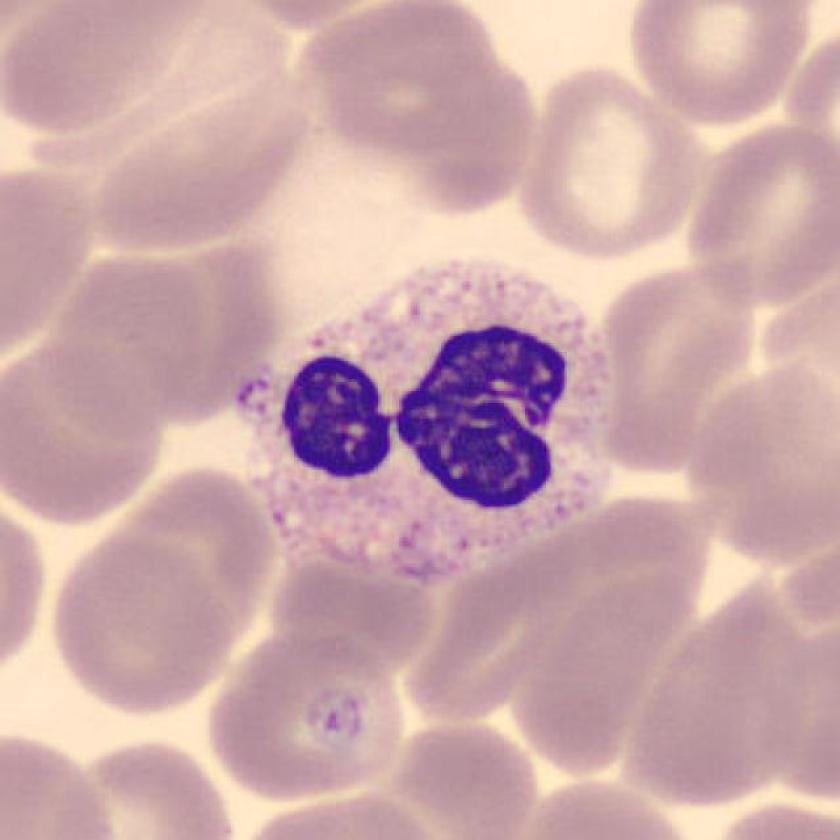neutrophil: (240, 270, 613, 581)
